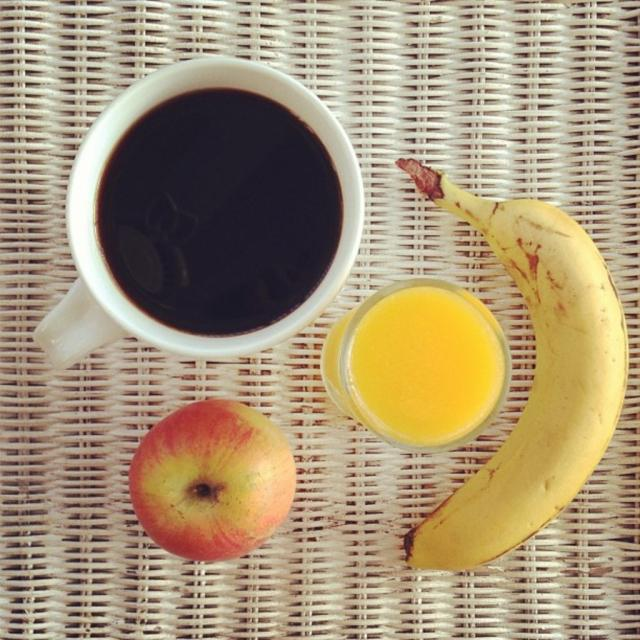Coffee: (100, 89, 348, 342)
Tea: (97, 90, 343, 337)
